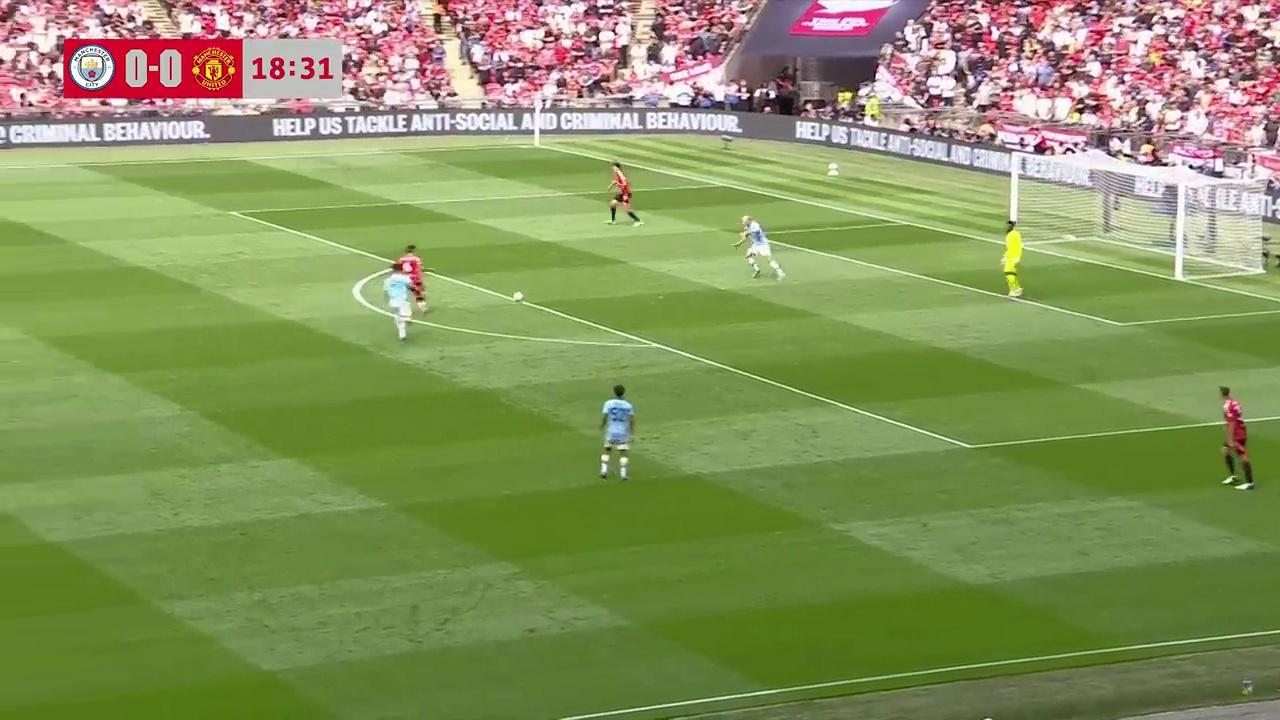ball: (512, 288, 524, 304), (618, 462, 628, 480)
player: (598, 384, 635, 481), (735, 214, 786, 283), (1220, 387, 1255, 487), (383, 265, 416, 342), (399, 246, 428, 316), (607, 169, 641, 225), (1001, 223, 1023, 300)
